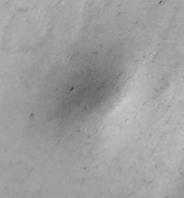dent: (1, 1, 184, 198)
